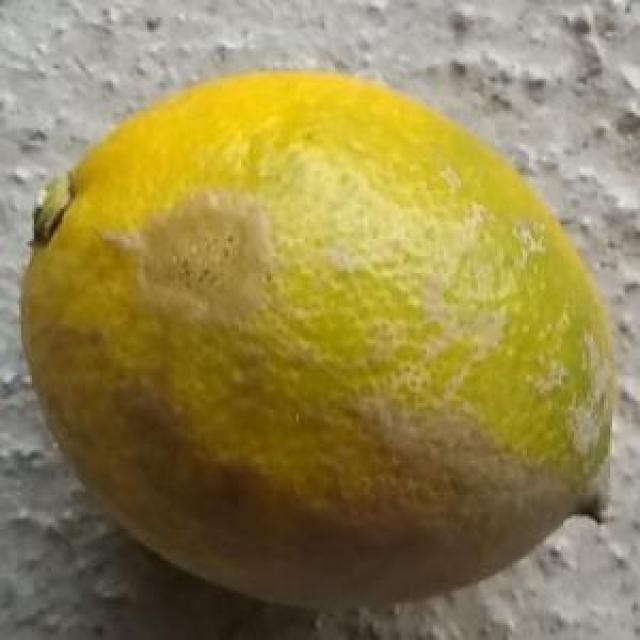lemon: (19, 66, 622, 612)
